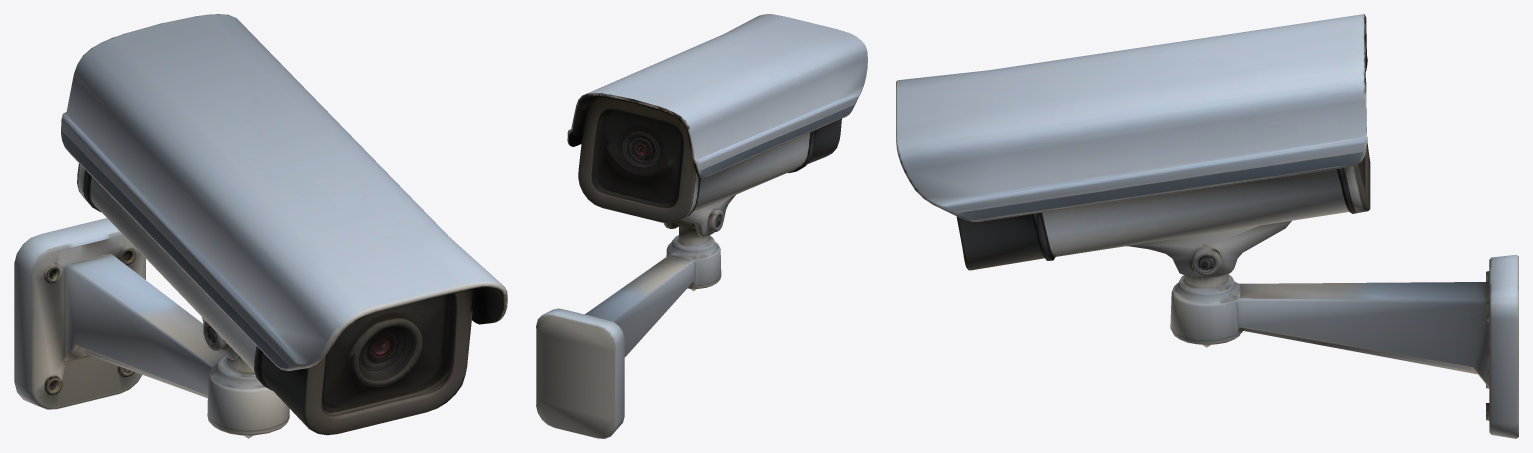
Rendered from Urban__security_camera_realistic_style_44d0741b_v3.cluster.glb.
3 renders of one model, left to right at view 1: azimuth 30°, elevation 25°; view 2: azimuth 150°, elevation 25°; view 3: azimuth 270°, elevation 25°, orthographic. The views are drawn at different scales.
Visible parts, largest first — view 1: mesh_input; view 2: mesh_input; view 3: mesh_input.
Part boxes in pixels (box(x1,y1,x2,y2)): mesh_input: box(14, 14, 507, 438); mesh_input: box(536, 14, 867, 438); mesh_input: box(896, 14, 1518, 438).
Size of the model in its own units: 0.6289 by 1.3 by 1.9.
1 material, 1 textured.
